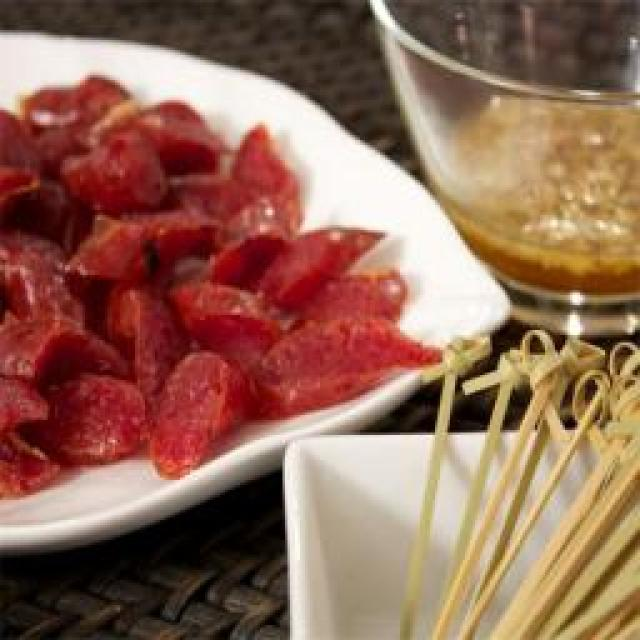Wet Waste: (0, 85, 415, 503)
